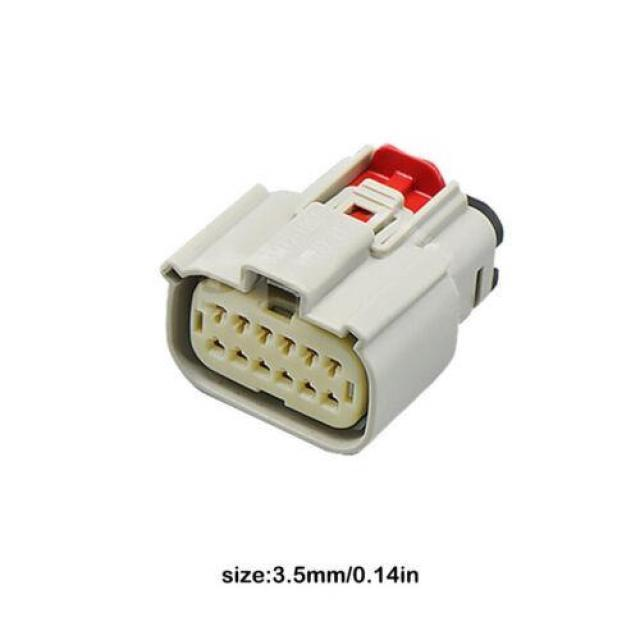connector: (118, 73, 548, 502)
